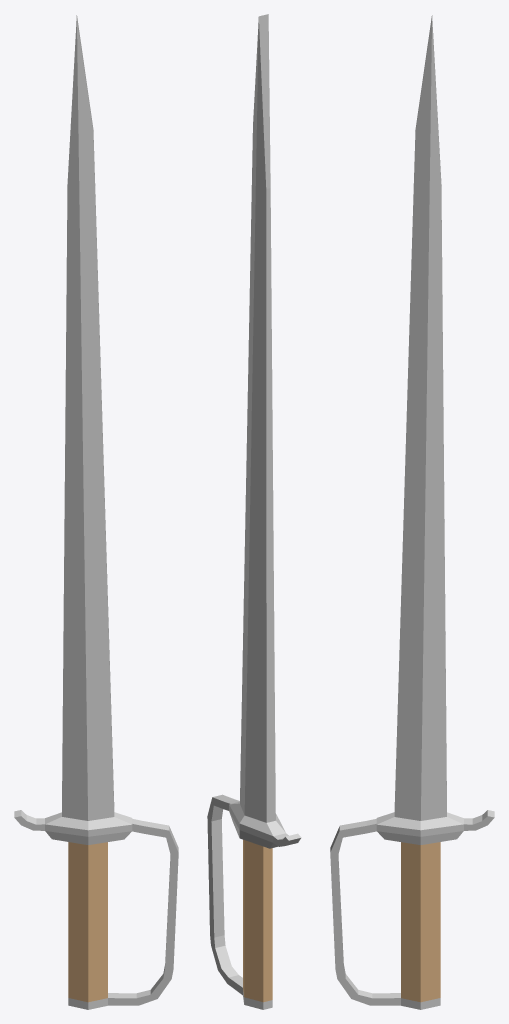
File: SwordOrdinary.fbx
The picture shows the model from 3 angles, left to right: view 1: azimuth 90°, elevation 25°; view 2: azimuth 210°, elevation 25°; view 3: azimuth 270°, elevation 25°; orthographic projection.
Visible parts, largest first — view 1: Cube; view 2: Cube; view 3: Cube.
Part boxes in pixels (x1,y1,x2,y2): Cube: [14, 15, 178, 1009]; Cube: [207, 14, 301, 1009]; Cube: [330, 15, 494, 1009].
Bounding box in the file's own units: 29.09 × 744 × 112.
